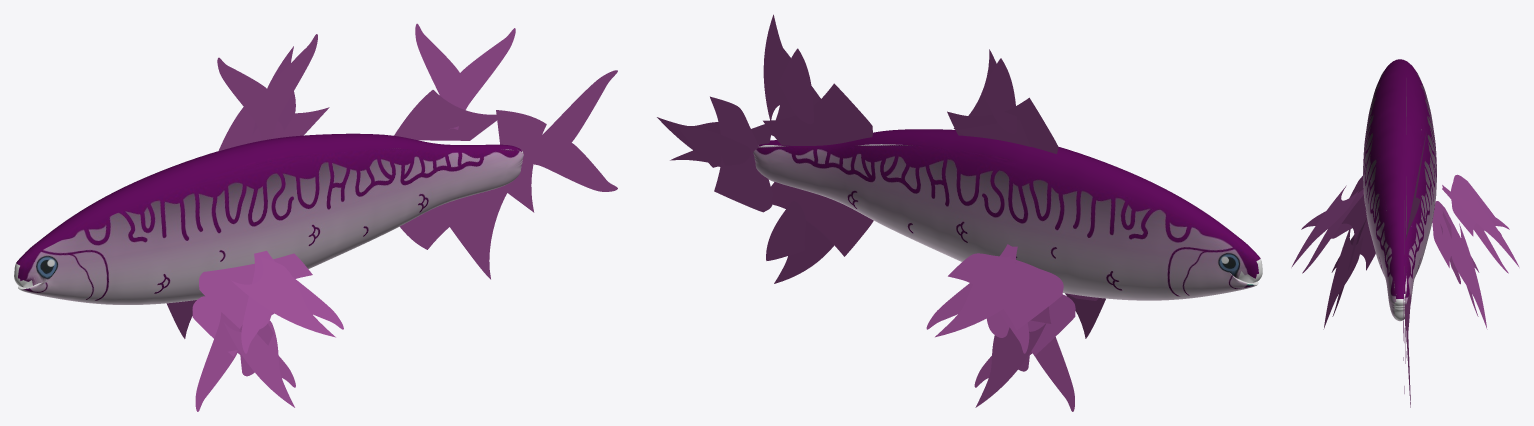
3 renders of one model, left to right at view 1: azimuth 30°, elevation 25°; view 2: azimuth 150°, elevation 25°; view 3: azimuth 270°, elevation 25°, orthographic. The views are drawn at different scales.
Parts seen in each view (by area): view 1: fish, pos-tail_fin-tail, pos-dorsal_fin-tail, pos-body_fin-tail, pos-anal_fin-dorsal, pos-body_fin-anal, pos-pectoral_fin-pectoral_right, pos-pectoral_fin-body_right, pos-tail_fin-anal, pos-pelvic_fin-tail_right, pos-pectoral_fin-tail_right, pos-pelvic_fin-pectoral_right (+5 smaller); view 2: fish, pos-body_fin-body, pos-tail_fin-body, pos-pectoral_fin-body, pos-anal_fin-body, pos-pectoral_fin-pectoral, pos-pelvic_fin-pectoral, pos-dorsal_fin-body, pos-pelvic_fin-tail, pos-body_fin-pelvic, pos-anal_fin-pelvic, pos-tail_fin-pelvic (+8 smaller); view 3: fish, pos-pelvic_fin-pectoral_right, pos-pelvic_fin-pectoral, pos-pelvic_fin-body, pos-pectoral_fin-body, pos-pectoral_fin-pectoral, pos-pectoral_fin-pectoral_right, pos-pectoral_fin-tail_right, pos-pectoral_fin-body_right, pos-pectoral_fin-tail, pos-pelvic_fin-body_right, pos-body_fin-tail (+1 smaller).
Boxes of the visible parts, box(x1,y1,x2,y2) form: fish: box(14, 133, 523, 304); pos-tail_fin-tail: box(521, 70, 617, 191); pos-dorsal_fin-tail: box(217, 34, 317, 140); pos-body_fin-tail: box(415, 23, 515, 129); pos-anal_fin-dorsal: box(436, 181, 514, 279); pos-body_fin-anal: box(394, 90, 496, 140); pos-pectoral_fin-pectoral_right: box(231, 256, 335, 337); pos-pectoral_fin-body_right: box(199, 253, 312, 328); pos-tail_fin-anal: box(496, 110, 546, 212); pos-pelvic_fin-tail_right: box(195, 312, 295, 411); pos-pectoral_fin-tail_right: box(241, 250, 343, 353); pos-pelvic_fin-pectoral_right: box(224, 320, 294, 407); fish: box(753, 129, 1262, 300); pos-body_fin-body: box(763, 83, 872, 145); pos-tail_fin-body: box(710, 96, 772, 212); pos-pectoral_fin-body: box(948, 253, 1063, 329); pos-anal_fin-body: box(769, 182, 873, 256); pos-pectoral_fin-pectoral: box(935, 256, 1038, 337); pos-pelvic_fin-pectoral: box(975, 323, 1046, 407); pos-dorsal_fin-body: box(947, 97, 1058, 153); pos-pelvic_fin-tail: box(974, 306, 1074, 411); pos-body_fin-pelvic: box(778, 48, 813, 124); pos-anal_fin-pelvic: box(766, 201, 805, 260); pos-tail_fin-pelvic: box(681, 128, 750, 167); fish: box(1363, 59, 1436, 321); pos-pelvic_fin-pectoral_right: box(1323, 229, 1363, 329); pos-pelvic_fin-pectoral: box(1447, 223, 1487, 329); pos-pelvic_fin-body: box(1432, 201, 1460, 267); pos-pectoral_fin-body: box(1451, 174, 1497, 236); pos-pectoral_fin-pectoral: box(1452, 185, 1519, 267); pos-pectoral_fin-pectoral_right: box(1291, 185, 1358, 267); pos-pectoral_fin-tail_right: box(1301, 189, 1363, 273); pos-pectoral_fin-body_right: box(1341, 176, 1366, 239); pos-pectoral_fin-tail: box(1442, 185, 1509, 273); pos-pelvic_fin-body_right: box(1358, 219, 1375, 270); pos-body_fin-tail: box(1405, 133, 1426, 240).
Size of the model in its own units: 1319 by 673 by 463.
2 materials, 1 textured.
